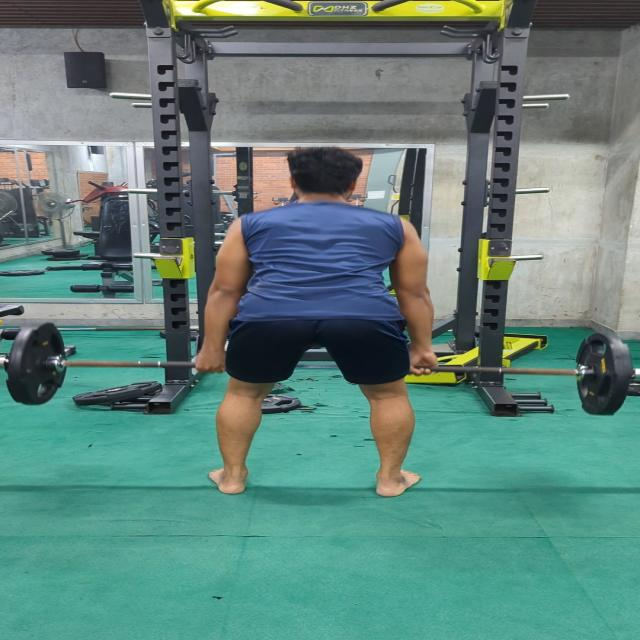Normal_Deadlifts: (191, 146, 440, 498)
